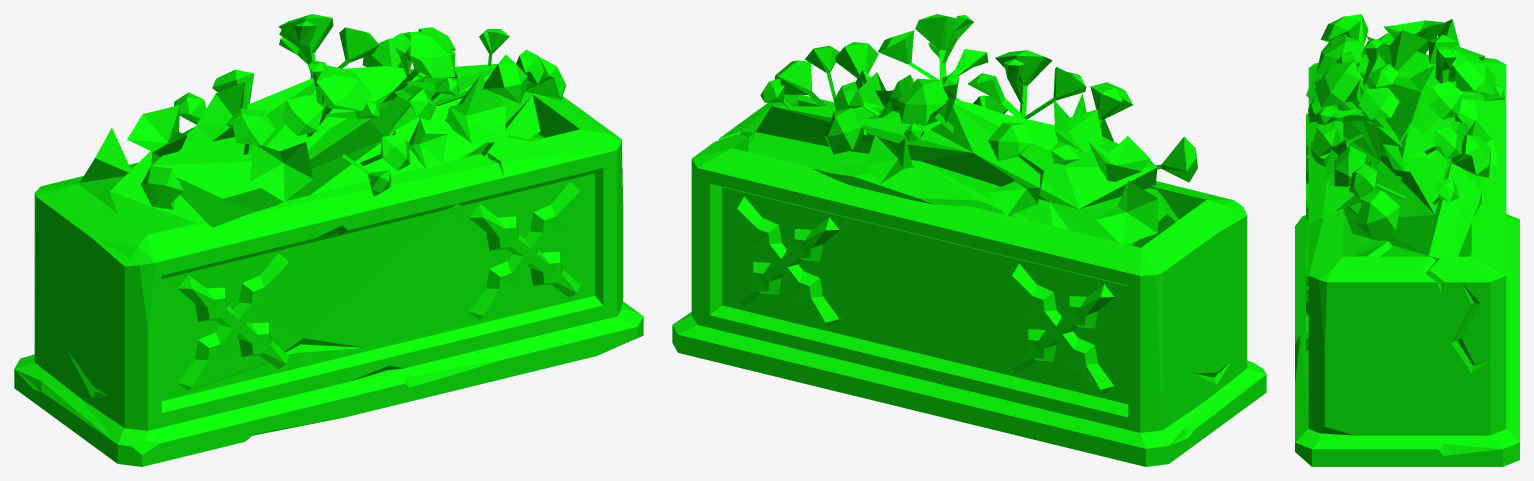
File: SM_Flower_Box_Stone_Wide_Street_A_Fantasy.fbx
3 renders of one model, left to right at view 1: azimuth 30°, elevation 25°; view 2: azimuth 150°, elevation 25°; view 3: azimuth 270°, elevation 25°, orthographic. The views are drawn at different scales.
Visible parts, largest first — view 1: flower-box-stone-wide-street-a-fantasy; view 2: flower-box-stone-wide-street-a-fantasy; view 3: flower-box-stone-wide-street-a-fantasy.
Boxes of the visible parts, <box> form: flower-box-stone-wide-street-a-fantasy: <box>14,14,643,466</box>; flower-box-stone-wide-street-a-fantasy: <box>672,14,1266,466</box>; flower-box-stone-wide-street-a-fantasy: <box>1295,14,1519,466</box>.
Size of the model in its own units: 1.3 by 0.8067 by 0.5237.
